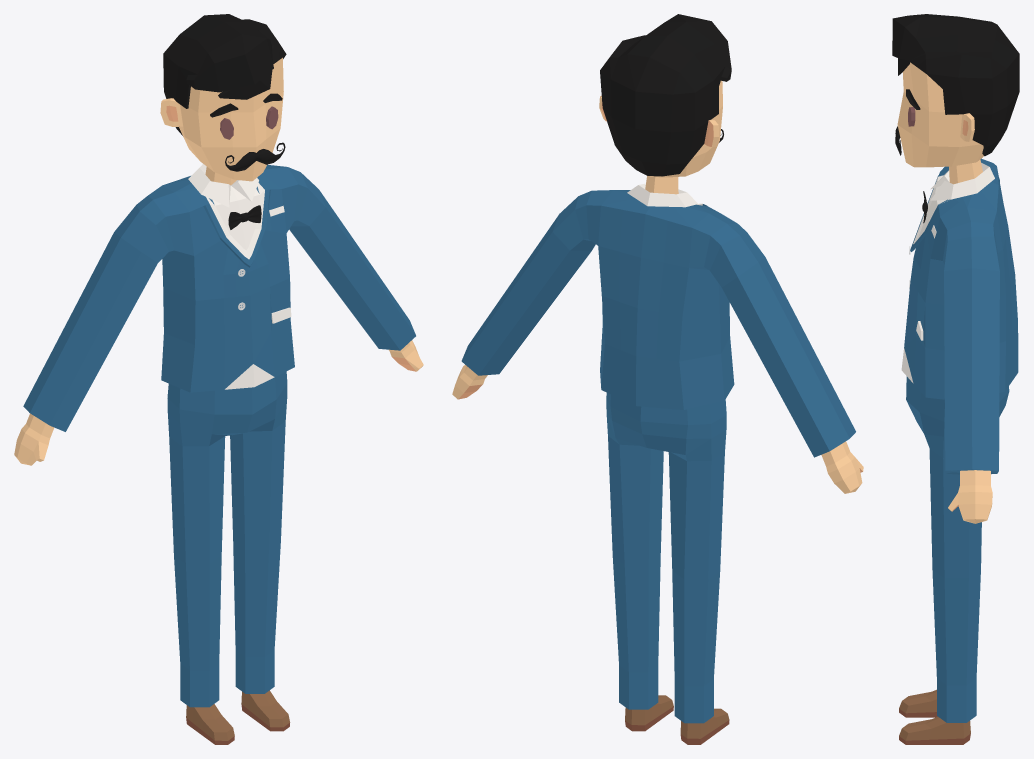
The model's file is presenter.glb.
3 renders of one model, left to right at view 1: azimuth 30°, elevation 25°; view 2: azimuth 150°, elevation 25°; view 3: azimuth 270°, elevation 25°, orthographic.
Parts seen in each view (by area): view 1: body, Object_2; view 2: body; view 3: body.
Boxes of the visible parts, <box> form: body: <box>14,14,423,744</box>; Object_2: <box>225,142,285,171</box>; body: <box>452,14,863,744</box>; body: <box>892,14,1019,744</box>.
Size of the model in its own units: 2.74 by 4.54 by 0.7394.
4 materials, 3 textured.
